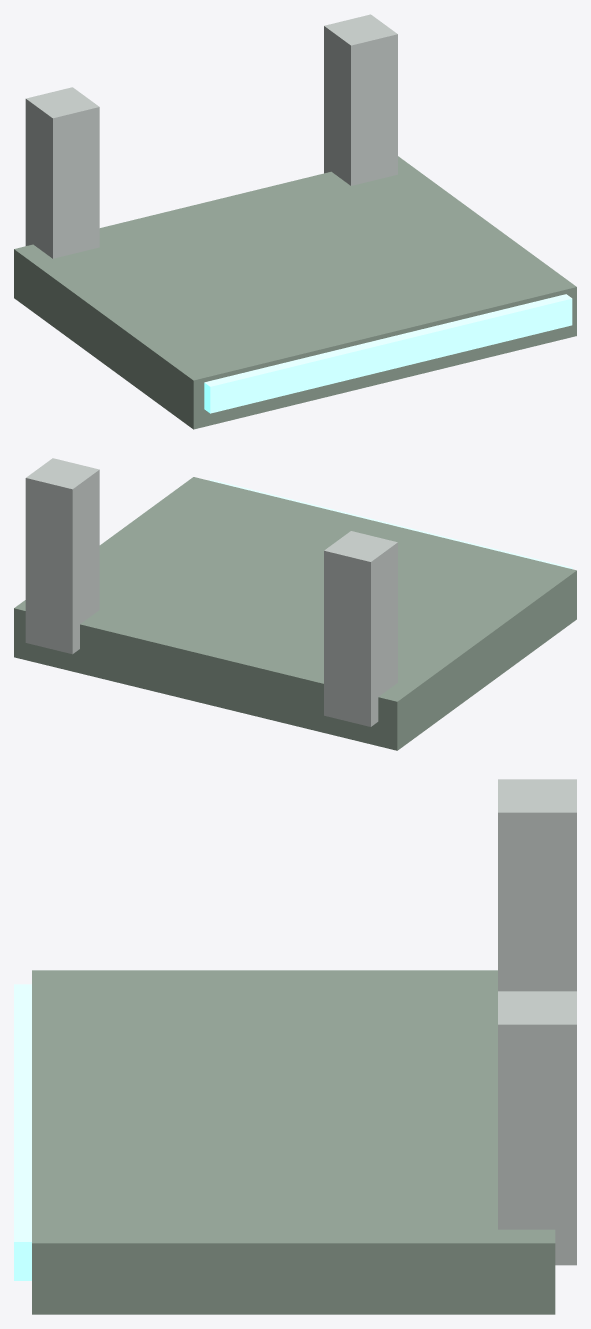
Rendered from s7-f-r01-charging-dock.glb.
The picture shows the model from 3 angles, top to bottom: view 1: azimuth 30°, elevation 25°; view 2: azimuth 150°, elevation 25°; view 3: azimuth 270°, elevation 25°; orthographic projection. The views are drawn at different scales.
Parts seen in each view (by area): view 1: dock_001, docklight_002, chargingpin_003, chargingpin_004; view 2: dock_001, chargingpin_004, chargingpin_003, docklight_002; view 3: dock_001, chargingpin_004, chargingpin_003, docklight_002.
Part boxes in pixels (<box>): dock_001: <box>14,156,576,429</box>; docklight_002: <box>204,294,572,413</box>; chargingpin_003: <box>25,87,99,258</box>; chargingpin_004: <box>324,14,397,185</box>; dock_001: <box>14,477,576,750</box>; chargingpin_004: <box>25,458,99,654</box>; chargingpin_003: <box>324,531,397,726</box>; docklight_002: <box>209,479,572,568</box>; dock_001: <box>32,970,555,1314</box>; chargingpin_004: <box>498,991,576,1265</box>; chargingpin_003: <box>498,779,576,991</box>; docklight_002: <box>14,984,31,1280</box>.
Size of the model in its own units: 0.9 by 0.425 by 0.785.
